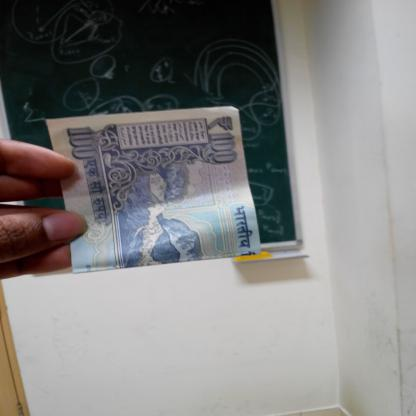Old100Back: (45, 106, 262, 274)
